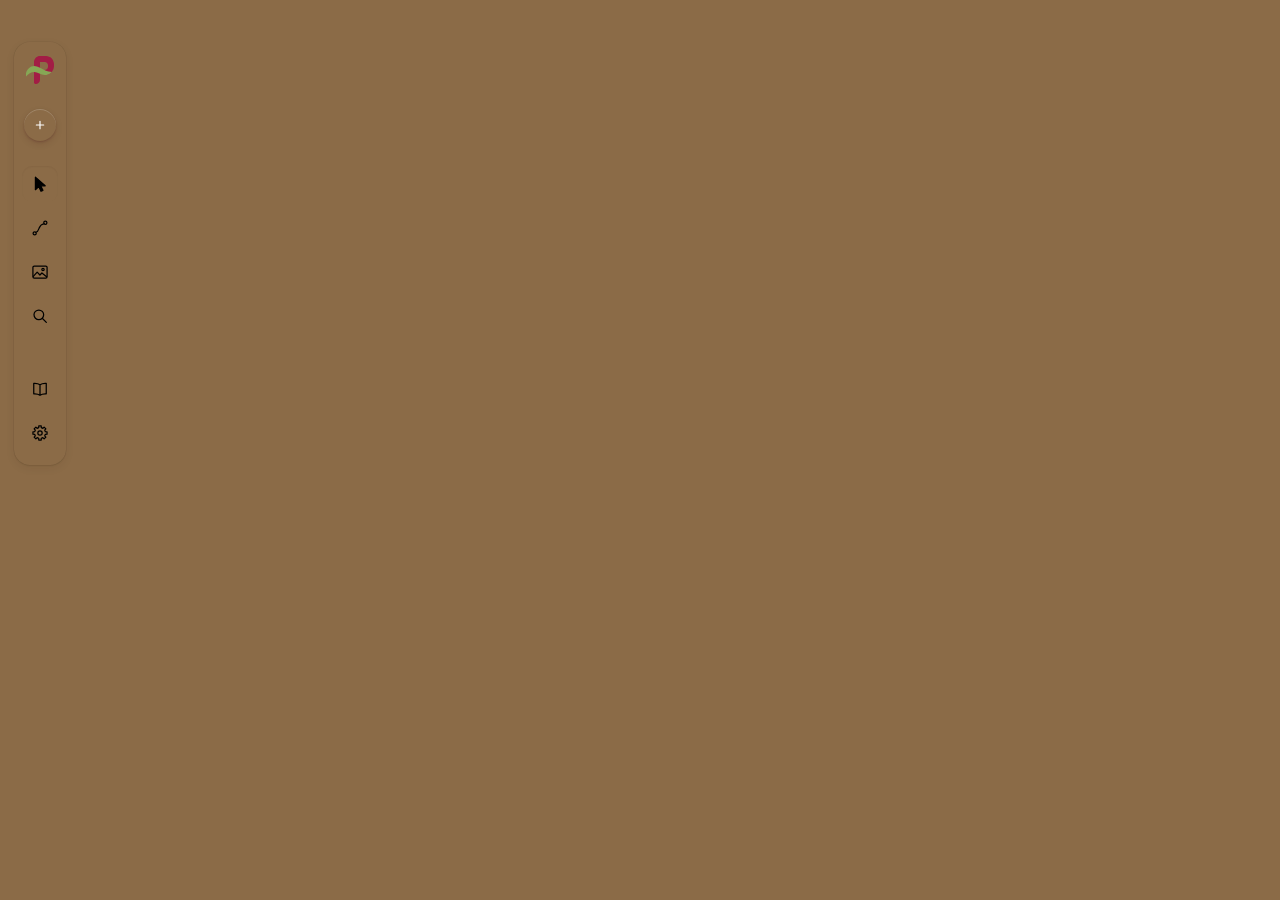
Scenario: sidebar › a resize keeps the picker open and places it again; Enter while an IME composes pins nothing
Later steps or results of the test are not shown.
Click the button named "New note".
click(40, 125)  # box [24, 109, 56, 141]
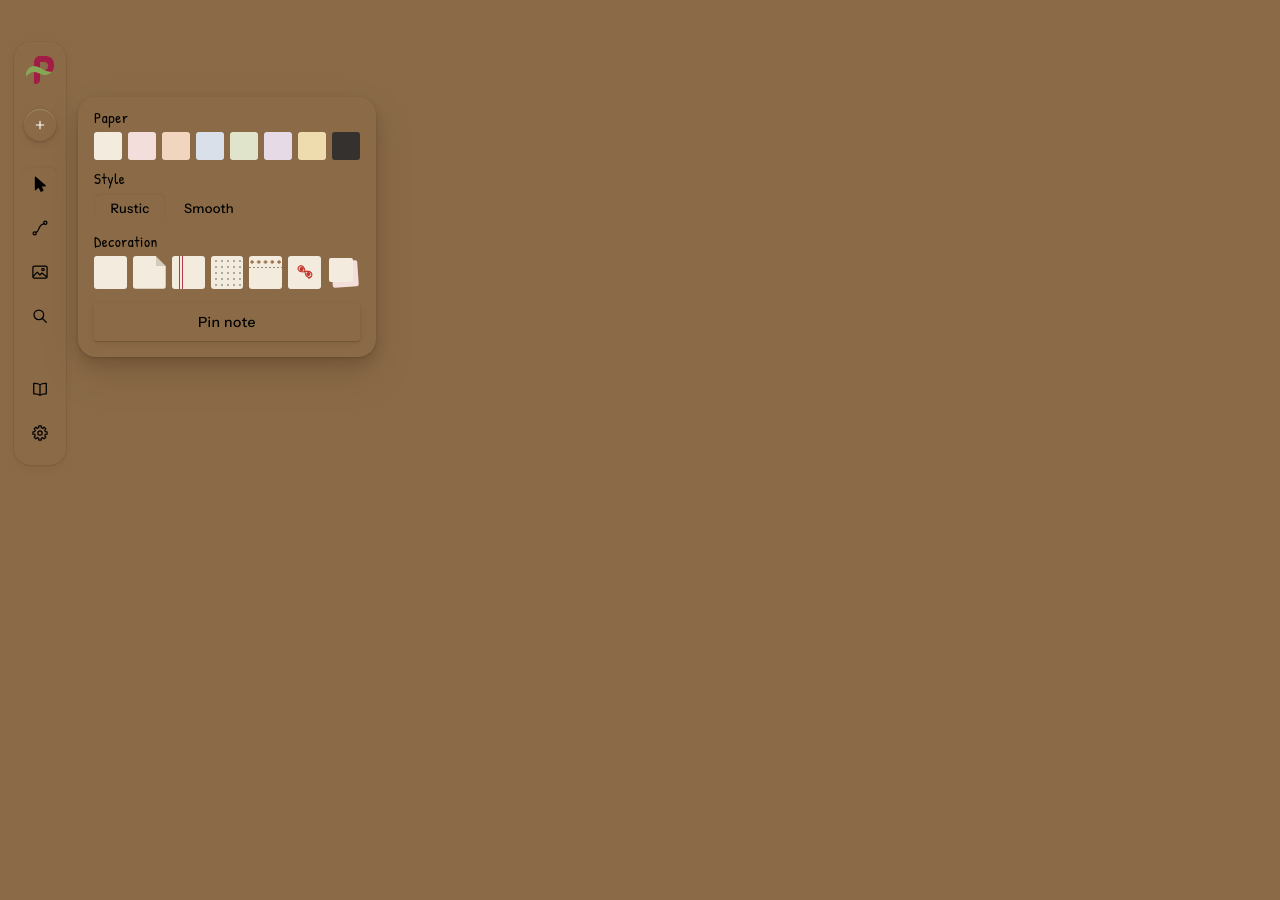
Expected: the dialog named "New note" is shown, [78, 97, 376, 357]
Press Enter in the radio button named "Cream", box [94, 132, 122, 160]
Press Enter in the radio button named "Cream", box [94, 132, 122, 160]
Expected: the dialog named "New note" is shown, [78, 97, 376, 357]
